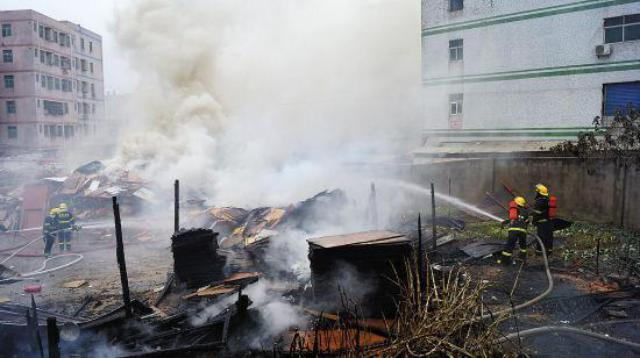smoke: (111, 0, 421, 120), (128, 124, 436, 200), (268, 220, 310, 311), (5, 139, 120, 172)
